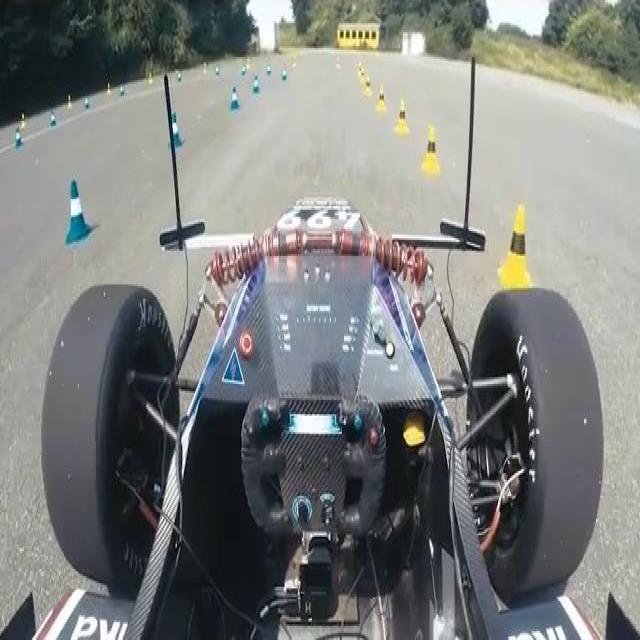blue_cone: (65, 178, 93, 245), (168, 112, 183, 149), (229, 85, 240, 111), (252, 73, 260, 95)
yellow_cone: (497, 202, 534, 298), (420, 126, 441, 174), (394, 100, 410, 134), (375, 85, 386, 112)
